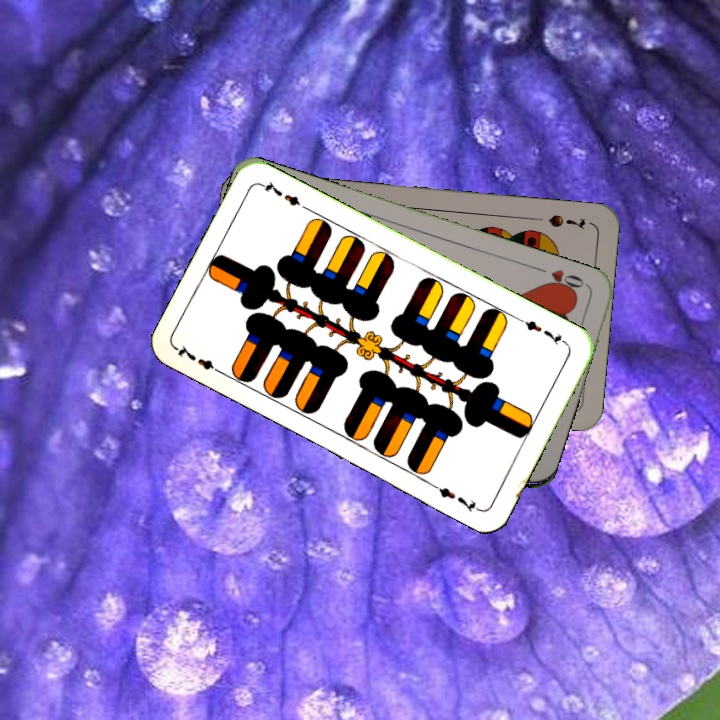E7: (173, 341, 227, 378), (515, 314, 570, 348)
HO: (532, 263, 590, 297)
S7: (544, 210, 588, 233)
